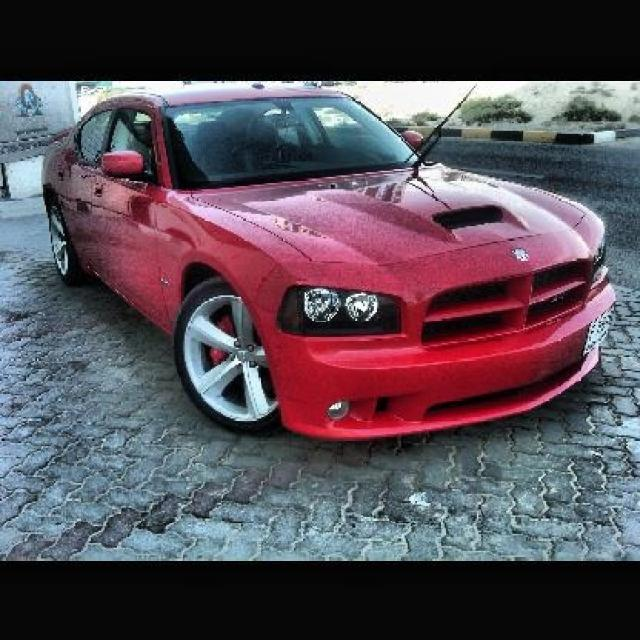maroon: (44, 89, 614, 442)
